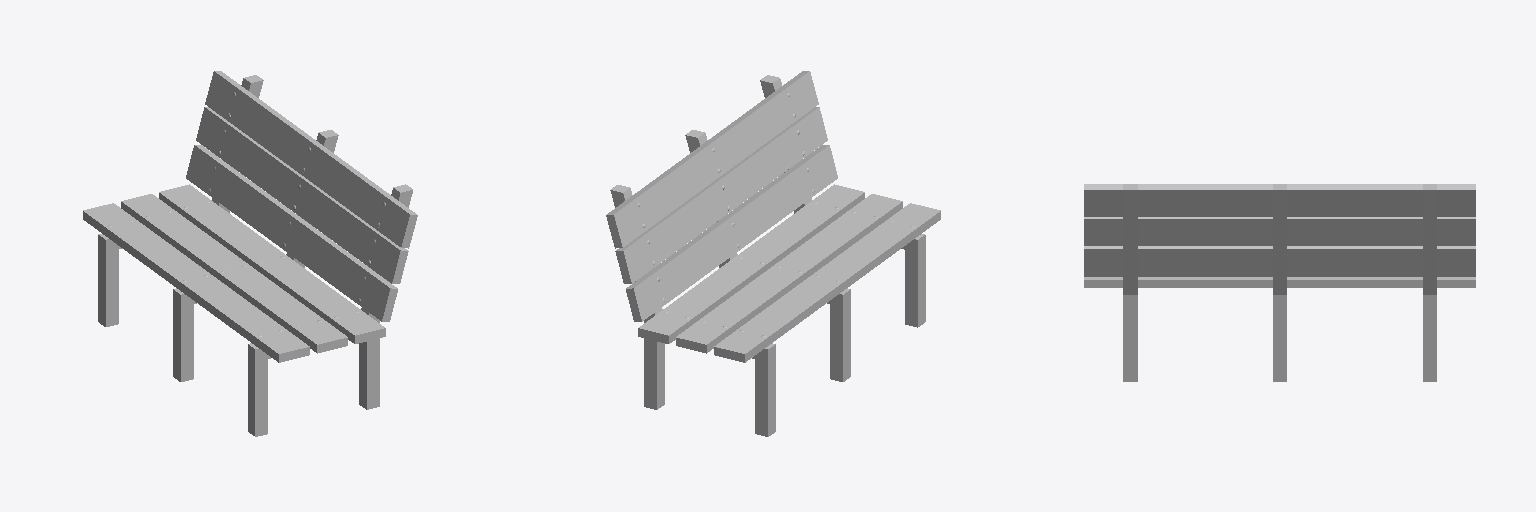
Rendered from bench.obj.
3 renders of one model, left to right at view 1: azimuth 30°, elevation 25°; view 2: azimuth 150°, elevation 25°; view 3: azimuth 270°, elevation 25°, orthographic.
Parts seen in each view (by area): view 1: pSphere11; view 2: pSphere11; view 3: pSphere11.
Part boxes in pixels (left/top/right/bottom): pSphere11: left=83, top=71, right=417, bottom=436; pSphere11: left=606, top=71, right=940, bottom=436; pSphere11: left=1084, top=184, right=1475, bottom=381.
Size of the model in its own units: 3.94 by 4.98 by 8.48.